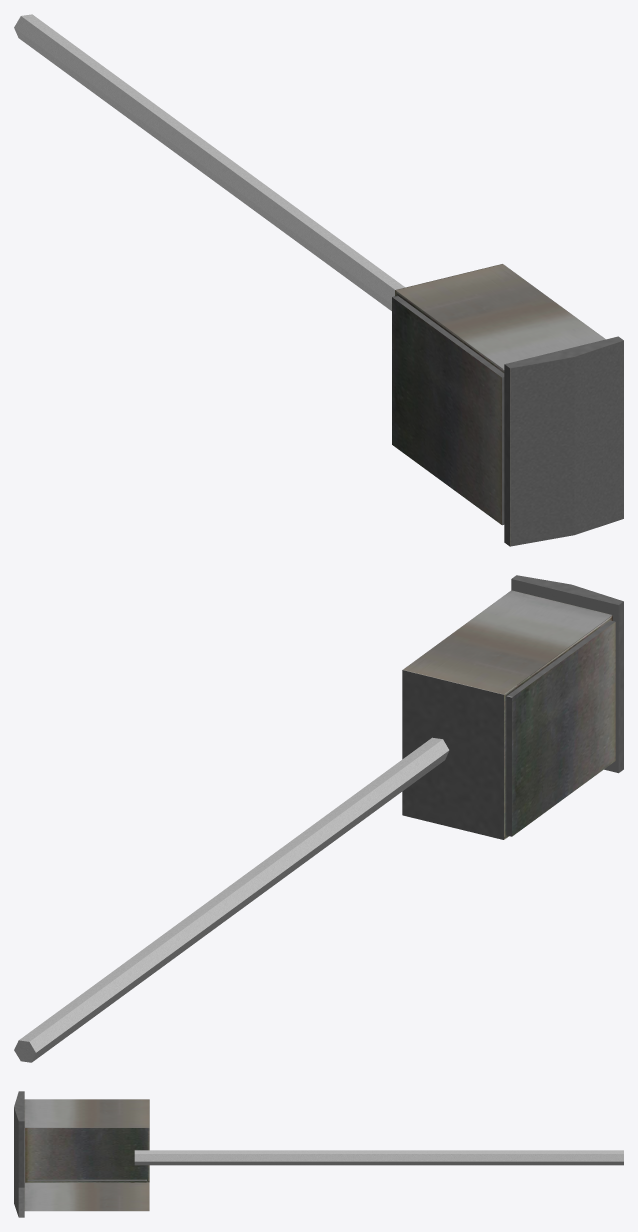
Rendered from ftzbzsb-dzx-218-geode.glb.
3 renders of one model, top to bottom at view 1: azimuth 30°, elevation 25°; view 2: azimuth 150°, elevation 25°; view 3: azimuth 270°, elevation 25°, orthographic. The views are drawn at different scales.
Parts seen in each view (by area): view 1: Node; view 2: Node; view 3: Node.
Boxes of the visible parts, x1=… form: Node: x1=14, y1=14, x2=623, y2=546; Node: x1=14, y1=575, x2=623, y2=1062; Node: x1=14, y1=1091, x2=623, y2=1217.
Size of the model in its own units: 0.2377 by 0.3554 by 2.04.
Materials: 3 (3 with a texture image).
